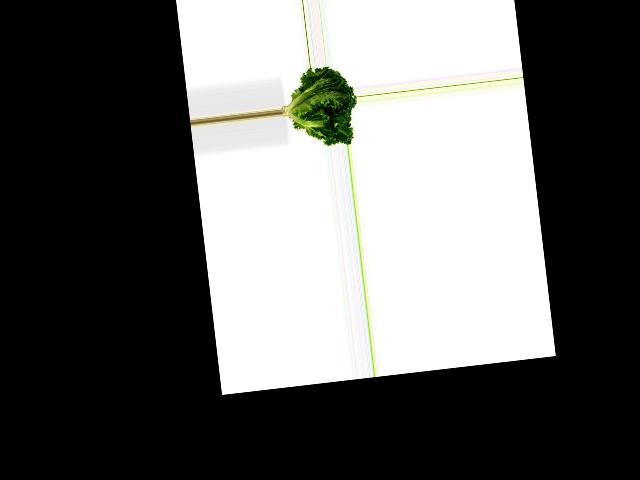lettuce: (277, 63, 360, 151)
